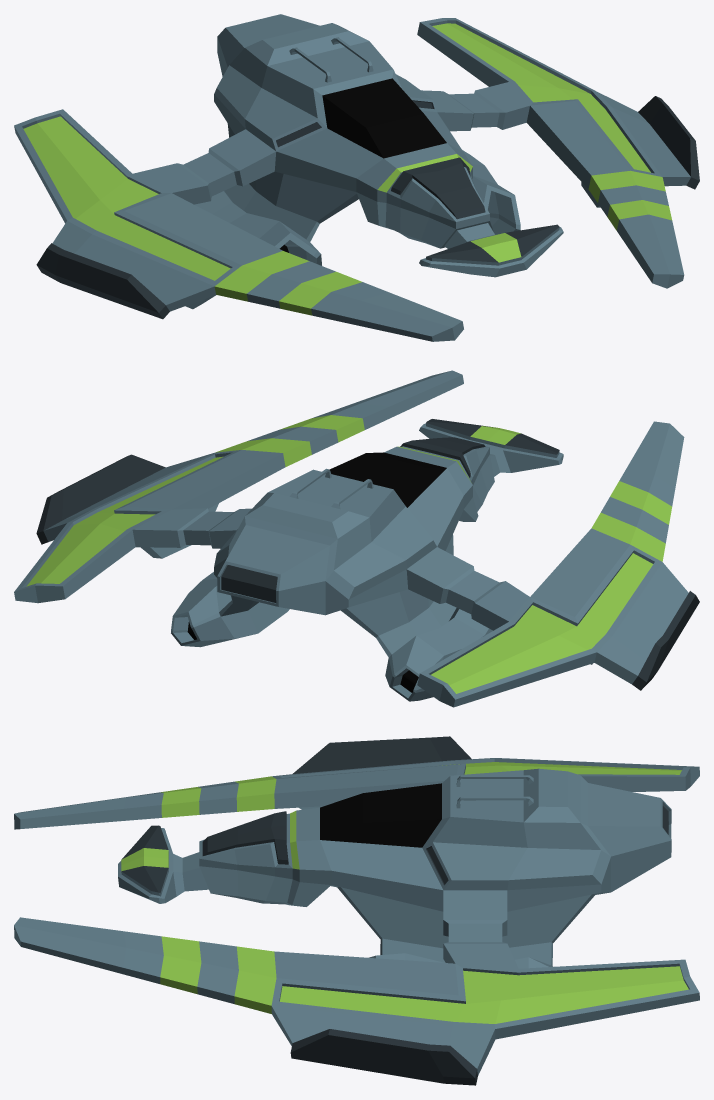
The model's file is spaceship002.glb.
3 renders of one model, top to bottom at view 1: azimuth 30°, elevation 25°; view 2: azimuth 150°, elevation 25°; view 3: azimuth 270°, elevation 25°, orthographic. The views are drawn at different scales.
Parts seen in each view (by area): view 1: Cube; view 2: Cube; view 3: Cube.
Boxes of the visible parts, box(x1,y1,x2,y2) form: Cube: box(14, 14, 699, 341); Cube: box(14, 370, 699, 707); Cube: box(14, 736, 699, 1085).
Size of the model in its own units: 10.02 by 2.82 by 9.23.
Materials: 1 (1 with a texture image).
